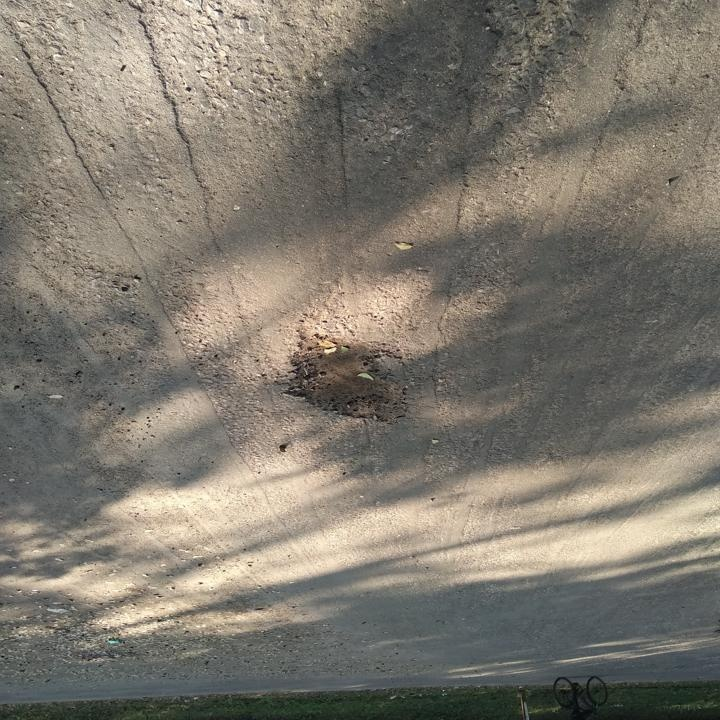pothole: (275, 323, 415, 427)
